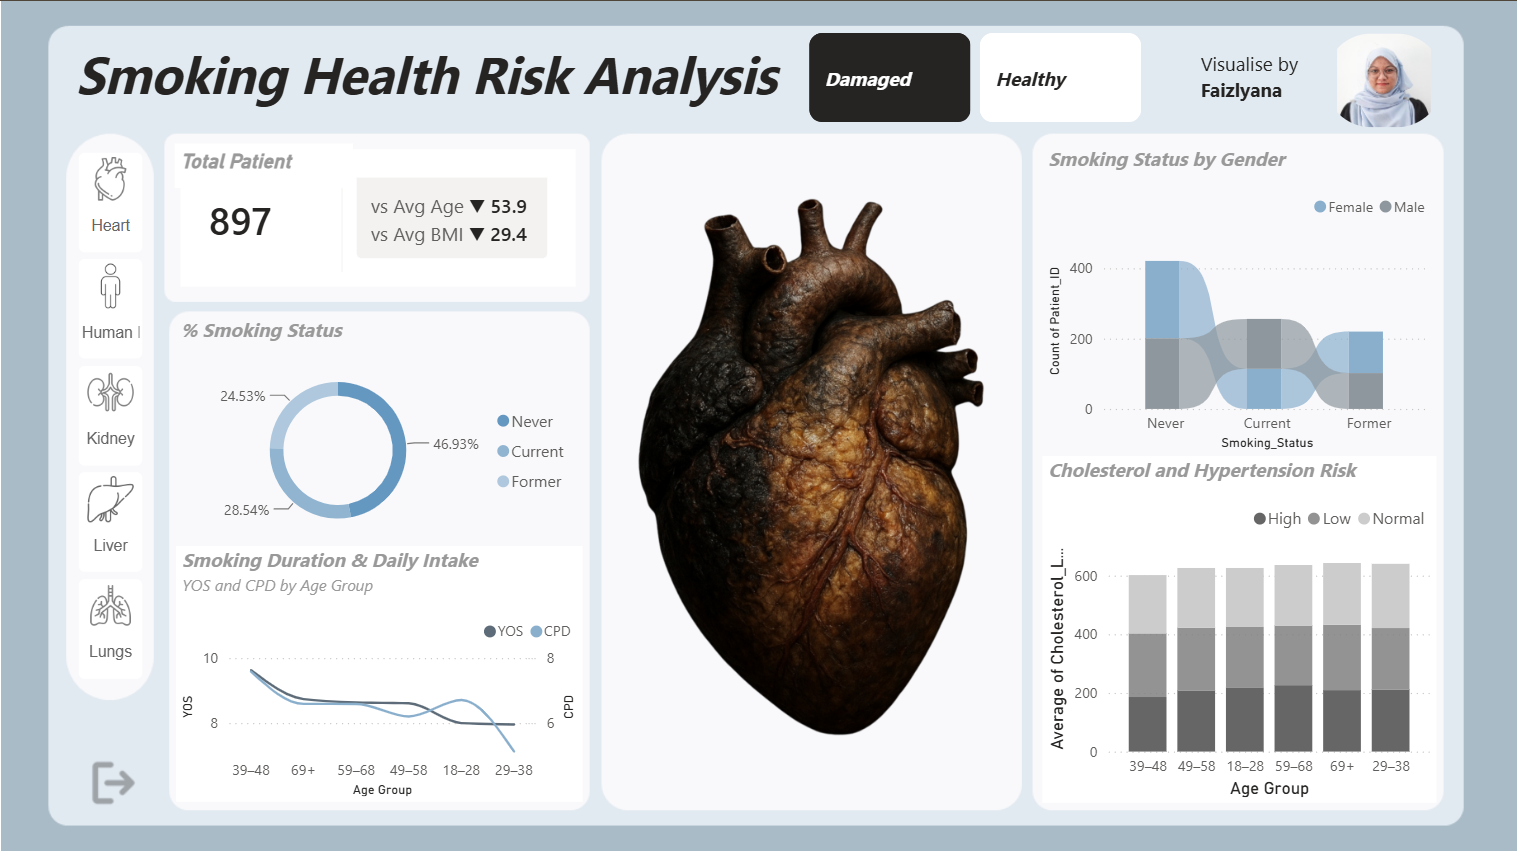

The page's visual inventory and layout, read from the dashboard file:
{"tool":"powerbi","page":{"name":"Page 1","canvas":[1280,720],"ordinal":0},"visuals":[{"type":"cardVisual","fields":{"Data":["CountNonNull(health_dataset.Patient_ID)"]},"box":[146.5,119.8,343.1,126.2],"z":0},{"type":"textbox","box":[146.5,119.8,150,37.2],"z":1000},{"type":"advancedSlicerVisual","fields":{"Values":["condition.Organ_Condition"]},"box":[677.9,22.1,291.4,85.1],"z":2000},{"type":"ChicletSlicer1448559807354","fields":{"Category":["Organ.Organ"],"Image":["Organ.Icon_URL"]},"box":[58.1,119.8,73.3,465.1],"z":3000},{"type":"image","box":[511.6,119.8,344.2,557],"z":4000},{"type":"donutChart","title":"% Smoking Status","fields":{"Category":["health_dataset.Smoking_Status"],"Y":["CountNonNull(health_dataset.Smoking_Status)"]},"box":[146.5,266.3,343,194.2],"z":5000},{"type":"lineChart","title":"Smoking Duration & Daily Intake","fields":{"Category":["health_dataset.Age Group"],"Y":["Avg(health_dataset.Years_of_Smoking)"],"Y2":["Avg(health_dataset.Cigarettes_Per_Day)"]},"box":[147.7,460.5,343,216.3],"z":6000},{"type":"ribbonChart","title":"Smoking Status by Gender","fields":{"Category":["health_dataset.Smoking_Status"],"Y":["CountNonNull(health_dataset.Patient_ID)"],"Series":["health_dataset.Gender"]},"box":[879.1,120.9,332.6,262.8],"z":6001},{"type":"columnChart","title":"Cholesterol and Hypertension Risk","fields":{"Y":["Avg(health_dataset.Cholesterol_Level)"],"Category":["health_dataset.Age Group"],"Series":["health_dataset.BP_Risk"]},"box":[879.1,383.7,332.6,293],"z":6002},{"type":"textbox","box":[58.1,27.9,619.8,74.4],"z":6003},{"type":"textbox","box":[1008.1,37.2,159.3,57],"z":6004},{"type":"image","box":[1117.4,27.9,100,79.1],"z":6005}]}

Visuals, with their boxes in screenshot pixels (x1, y1, x2, y2), scaled from the page's 1280x720 canvas onto the 1517x851 screenshot:
cardVisual - CountNonNull(health_dataset.Patient_ID): {"left": 174, "top": 142, "right": 580, "bottom": 291}
textbox: {"left": 174, "top": 142, "right": 351, "bottom": 186}
advancedSlicerVisual - condition.Organ_Condition: {"left": 803, "top": 26, "right": 1149, "bottom": 127}
ChicletSlicer1448559807354 - Organ.Organ x Organ.Icon_URL: {"left": 69, "top": 142, "right": 156, "bottom": 691}
image: {"left": 606, "top": 142, "right": 1014, "bottom": 800}
"% Smoking Status" donutChart: {"left": 174, "top": 315, "right": 580, "bottom": 544}
"Smoking Duration & Daily Intake" lineChart: {"left": 175, "top": 544, "right": 582, "bottom": 800}
"Smoking Status by Gender" ribbonChart: {"left": 1042, "top": 143, "right": 1436, "bottom": 454}
"Cholesterol and Hypertension Risk" columnChart: {"left": 1042, "top": 454, "right": 1436, "bottom": 800}
textbox: {"left": 69, "top": 33, "right": 803, "bottom": 121}
textbox: {"left": 1195, "top": 44, "right": 1384, "bottom": 111}
image: {"left": 1324, "top": 33, "right": 1443, "bottom": 126}
